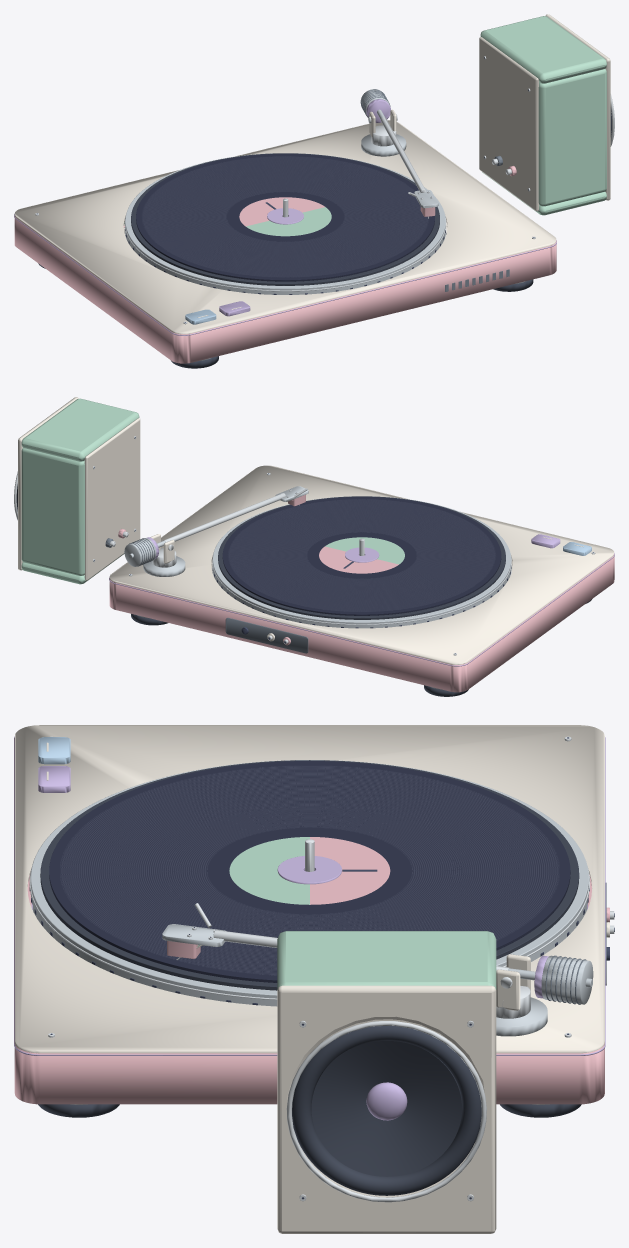
Rendered from assembl-vinyl-atelier-web.glb.
The picture shows the model from 3 angles, top to bottom: view 1: azimuth 30°, elevation 25°; view 2: azimuth 150°, elevation 25°; view 3: azimuth 270°, elevation 25°; orthographic projection. The views are drawn at different scales.
Visible parts, largest first — view 1: MESH_DECK_TOP_Vinyl_pastel_cream, MESH_LP_DISC_VINYL_MAT, MESH_DECK_SHELL_Vinyl_pastel_blush, MESH_SPEAKER_CABINET_Vinyl_pastel_mint, MESH_SPEAKER_BACK_Vinyl_pastel_cream, MESH_SINGLE_DISC_VINYL_MAT, MESH_PLATTER_Vinyl_pastel_satin_metal, MESH_MAT_RUBBER_MAT, MESH_LP_DISC_Vinyl_pastel_mint, MESH_LP_DISC_Vinyl_pastel_blush, MESH_DECK_SHELL_Vinyl_pastel_lilac, MESH_SPEAKER_CABINET_Vinyl_pastel_cream (+4 smaller); view 2: MESH_LP_DISC_VINYL_MAT, MESH_DECK_TOP_Vinyl_pastel_cream, MESH_DECK_SHELL_Vinyl_pastel_blush, MESH_SPEAKER_CABINET_Vinyl_pastel_mint, MESH_SPEAKER_BACK_Vinyl_pastel_cream, MESH_SINGLE_DISC_VINYL_MAT, MESH_PLATTER_Vinyl_pastel_satin_metal, MESH_MAT_RUBBER_MAT, MESH_DECK_SHELL_Vinyl_pastel_soft_grey_gasket, MESH_LP_DISC_Vinyl_pastel_mint, MESH_LP_DISC_Vinyl_pastel_blush, MESH_DECK_SHELL_Vinyl_pastel_lilac (+6 smaller); view 3: MESH_LP_DISC_VINYL_MAT, MESH_DECK_TOP_Vinyl_pastel_cream, MESH_SPEAKER_CABINET_Vinyl_pastel_cream, MESH_DECK_SHELL_Vinyl_pastel_blush, MESH_SPEAKER_CONE_RUBBER_MAT, MESH_SINGLE_DISC_VINYL_MAT, MESH_SPEAKER_CABINET_Vinyl_pastel_mint, MESH_SPEAKER_CABINET_RUBBER_MAT, MESH_PLATTER_Vinyl_pastel_satin_metal, MESH_MAT_RUBBER_MAT, MESH_LP_DISC_Vinyl_pastel_mint, MESH_LP_DISC_Vinyl_pastel_blush (+14 smaller).
Part boxes in pixels (x1,y1,x2,y2): MESH_DECK_TOP_Vinyl_pastel_cream: [14, 120, 556, 334]; MESH_LP_DISC_VINYL_MAT: [136, 153, 434, 281]; MESH_DECK_SHELL_Vinyl_pastel_blush: [14, 216, 556, 363]; MESH_SPEAKER_CABINET_Vinyl_pastel_mint: [480, 16, 606, 215]; MESH_SPEAKER_BACK_Vinyl_pastel_cream: [479, 37, 538, 211]; MESH_SINGLE_DISC_VINYL_MAT: [198, 180, 372, 253]; MESH_PLATTER_Vinyl_pastel_satin_metal: [125, 153, 445, 294]; MESH_MAT_RUBBER_MAT: [131, 153, 439, 285]; MESH_LP_DISC_Vinyl_pastel_mint: [246, 207, 331, 236]; MESH_LP_DISC_Vinyl_pastel_blush: [239, 197, 324, 226]; MESH_DECK_SHELL_Vinyl_pastel_lilac: [14, 214, 556, 335]; MESH_SPEAKER_CABINET_Vinyl_pastel_cream: [545, 14, 610, 200]; MESH_LP_DISC_VINYL_MAT: [222, 496, 501, 615]; MESH_DECK_TOP_Vinyl_pastel_cream: [109, 465, 614, 664]; MESH_DECK_SHELL_Vinyl_pastel_blush: [109, 554, 614, 692]; MESH_SPEAKER_CABINET_Vinyl_pastel_mint: [21, 398, 139, 584]; MESH_SPEAKER_BACK_Vinyl_pastel_cream: [84, 418, 140, 580]; MESH_SINGLE_DISC_VINYL_MAT: [281, 521, 443, 589]; MESH_PLATTER_Vinyl_pastel_satin_metal: [212, 496, 511, 628]; MESH_MAT_RUBBER_MAT: [218, 496, 505, 619]; MESH_DECK_SHELL_Vinyl_pastel_soft_grey_gasket: [225, 617, 308, 653]; MESH_LP_DISC_Vinyl_pastel_mint: [325, 537, 404, 564]; MESH_LP_DISC_Vinyl_pastel_blush: [319, 546, 398, 573]; MESH_DECK_SHELL_Vinyl_pastel_lilac: [109, 553, 614, 666]; MESH_LP_DISC_VINYL_MAT: [49, 761, 570, 982]; MESH_DECK_TOP_Vinyl_pastel_cream: [15, 725, 604, 1053]; MESH_SPEAKER_CABINET_Vinyl_pastel_cream: [277, 985, 496, 1233]; MESH_DECK_SHELL_Vinyl_pastel_blush: [14, 738, 609, 1104]; MESH_SPEAKER_CONE_RUBBER_MAT: [311, 1041, 461, 1176]; MESH_SINGLE_DISC_VINYL_MAT: [158, 807, 461, 933]; MESH_SPEAKER_CABINET_Vinyl_pastel_mint: [277, 931, 496, 989]; MESH_SPEAKER_CABINET_RUBBER_MAT: [292, 1026, 481, 1195]; MESH_PLATTER_Vinyl_pastel_satin_metal: [30, 760, 589, 1006]; MESH_MAT_RUBBER_MAT: [40, 760, 579, 990]; MESH_LP_DISC_Vinyl_pastel_mint: [229, 837, 309, 904]; MESH_LP_DISC_Vinyl_pastel_blush: [310, 837, 390, 904].
Bounding box in the file's own units: 0.607 × 0.16 × 0.3514.
Materials: 13 (1 with a texture image).
